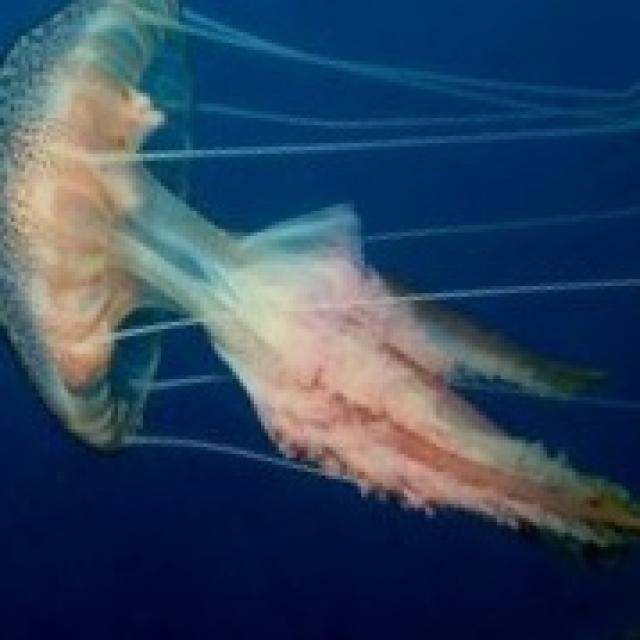Box-jellyfish: (0, 0, 636, 554)
